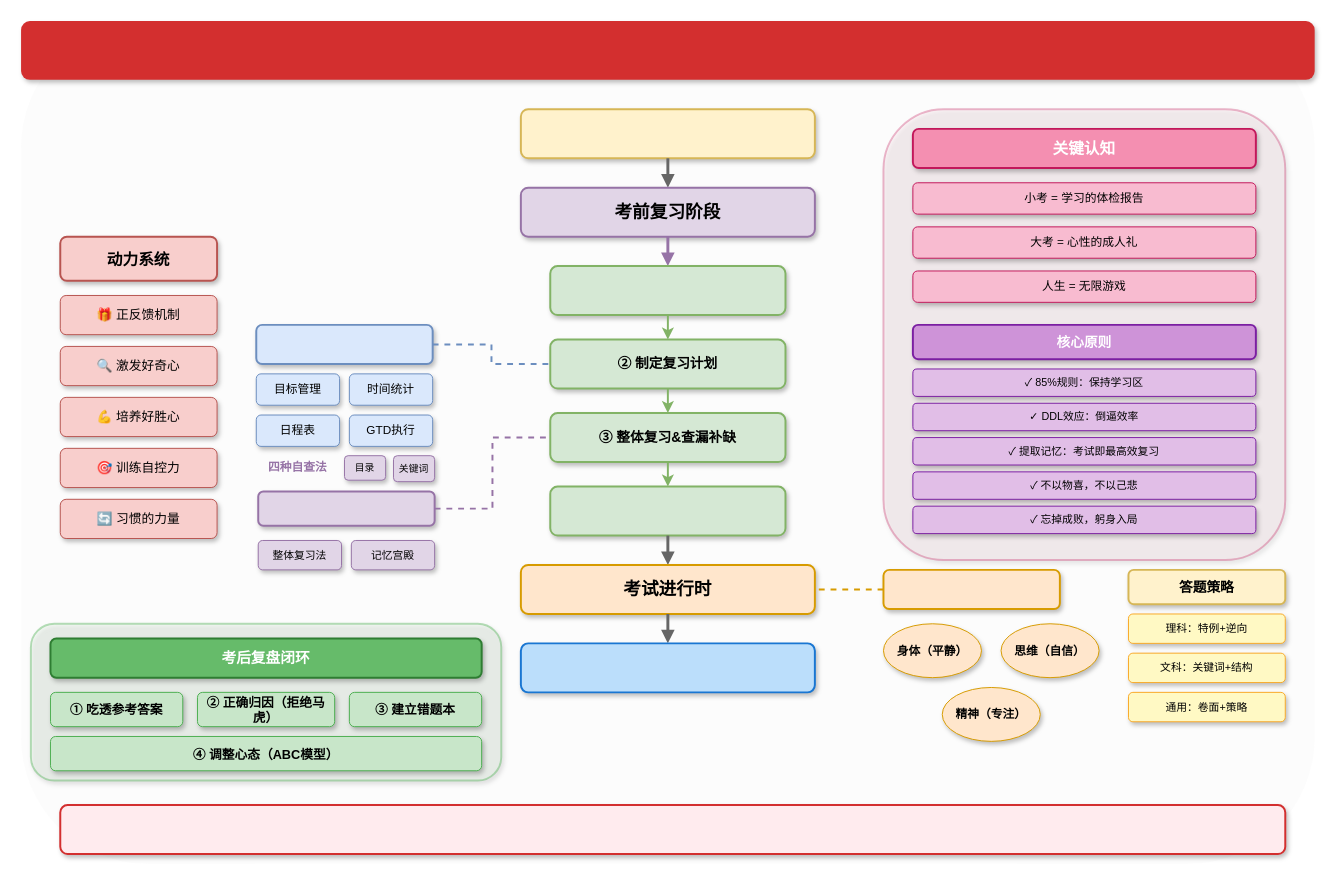
Some shapes in this 1337 by 880 pixel diagram are drawn without their labels. Each missing label, with the centre of its shape:
"① 激发学习动力" belongs at pixel 668 291.
"④ 刷题&建立命题人思维" belongs at pixel 668 512.
"复习方法" belongs at pixel 347 509.
"如何考试流程图" belongs at pixel 668 51.
"时间规划（SMART）" belongs at pixel 345 345.
"考后复盘升华" belongs at pixel 668 669.
"考场铁三角" belongs at pixel 972 590.
"考试是人生的一场修行，每一次都是成长的契机。工具在手，心中有数，考场如鱼得水！" belongs at pixel 673 830.
"重新定义考试：工具而非枷锁" belongs at pixel 668 135.
